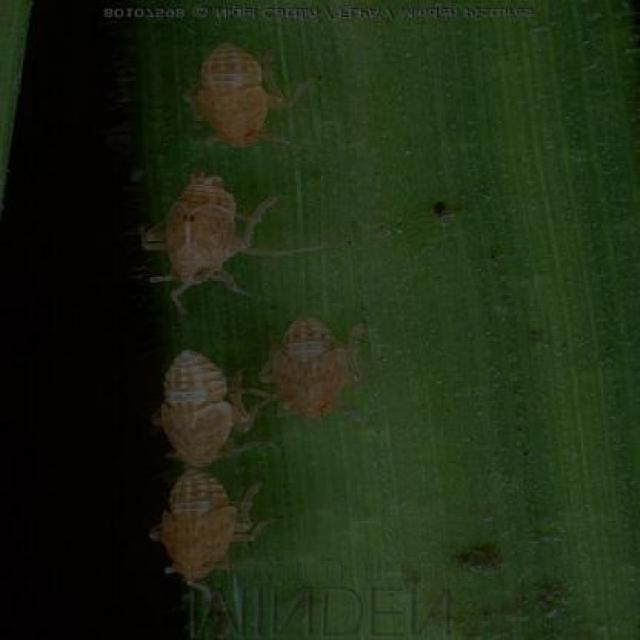brown-planthopper: (140, 170, 260, 307), (181, 41, 296, 156), (258, 316, 362, 424), (149, 348, 240, 468), (151, 472, 247, 580)
